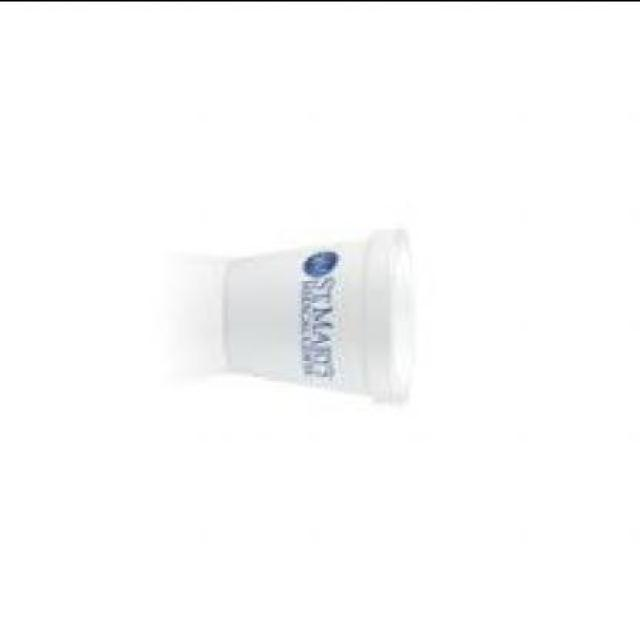PAPER: (224, 228, 416, 395)
